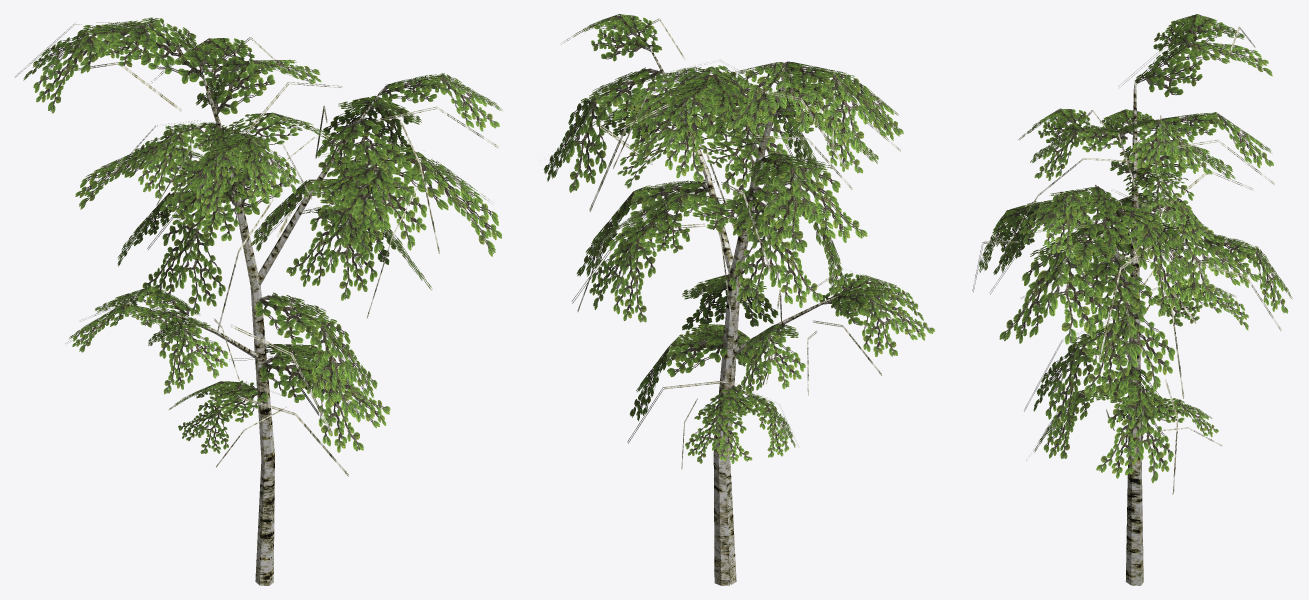
Rendered from flora_tree_euro_birch.glb.
3 renders of one model, left to right at view 1: azimuth 30°, elevation 25°; view 2: azimuth 150°, elevation 25°; view 3: azimuth 270°, elevation 25°, orthographic. The views are drawn at different scales.
Parts seen in each view (by area): view 1: flora_tree_euro_birch_part0; view 2: flora_tree_euro_birch_part0; view 3: flora_tree_euro_birch_part0.
Boxes of the visible parts, x1,y1,x2,y2 form: flora_tree_euro_birch_part0: (15,17,502,585); flora_tree_euro_birch_part0: (543,14,935,585); flora_tree_euro_birch_part0: (972,14,1292,585).
Size of the model in its own units: 14.86 by 19.4 by 11.21.
1 material, 1 textured.
